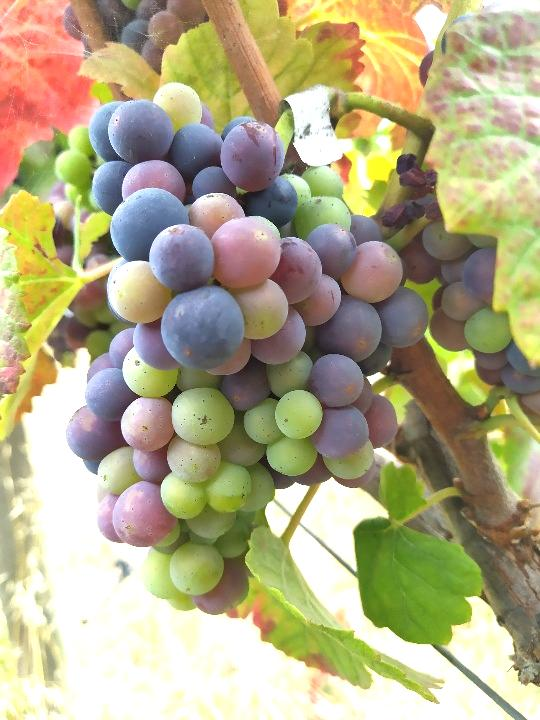grape: (62, 80, 434, 617)
